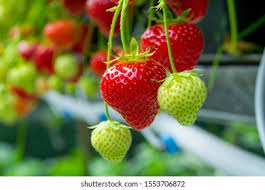ripe: (99, 52, 171, 131), (137, 18, 203, 80), (83, 1, 138, 40), (43, 14, 82, 51), (88, 47, 129, 78), (161, 1, 213, 25), (9, 83, 38, 115), (31, 43, 58, 74), (17, 39, 43, 60)
unripe: (157, 69, 208, 127), (89, 118, 133, 163), (53, 50, 81, 80)
